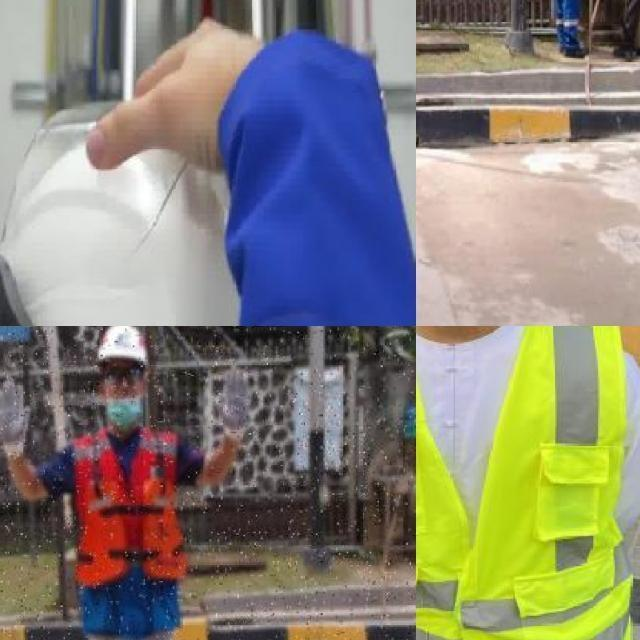apron: (212, 364, 250, 444), (0, 377, 30, 459)
